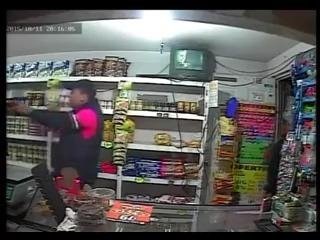non-violence: (16, 80, 106, 182), (263, 112, 291, 199)
weapon: (5, 102, 21, 115)
